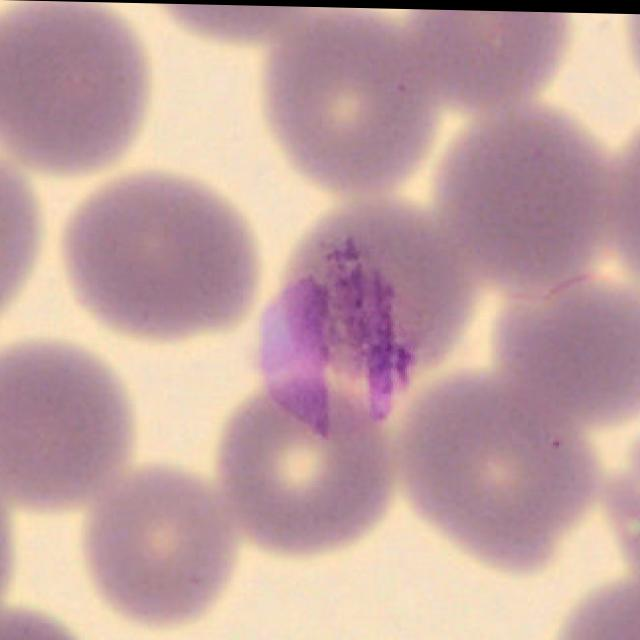Artefato: (259, 223, 409, 438)
